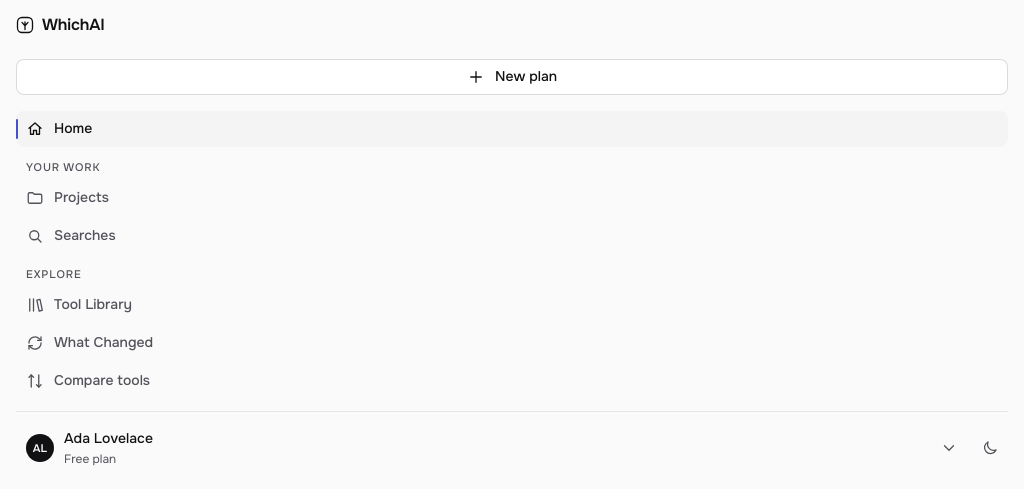
it: sidebar footer, signed in › signs out with a POST form that carries the CSRF token
Click the button "AL Ada Lovelace Free plan" at (108, 438), box [16,424,968,472]
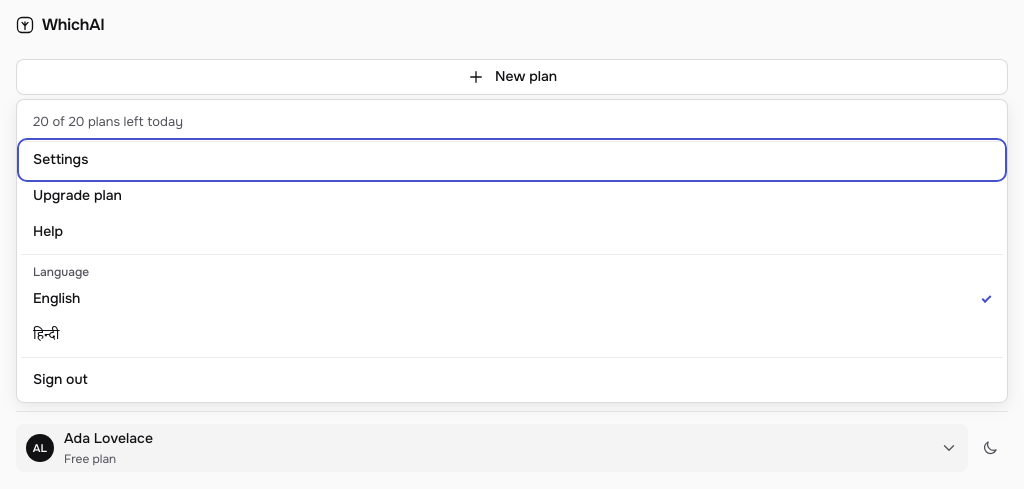
Expected: the form named "csrf" holds "token-123", [21,362,1003,398]
